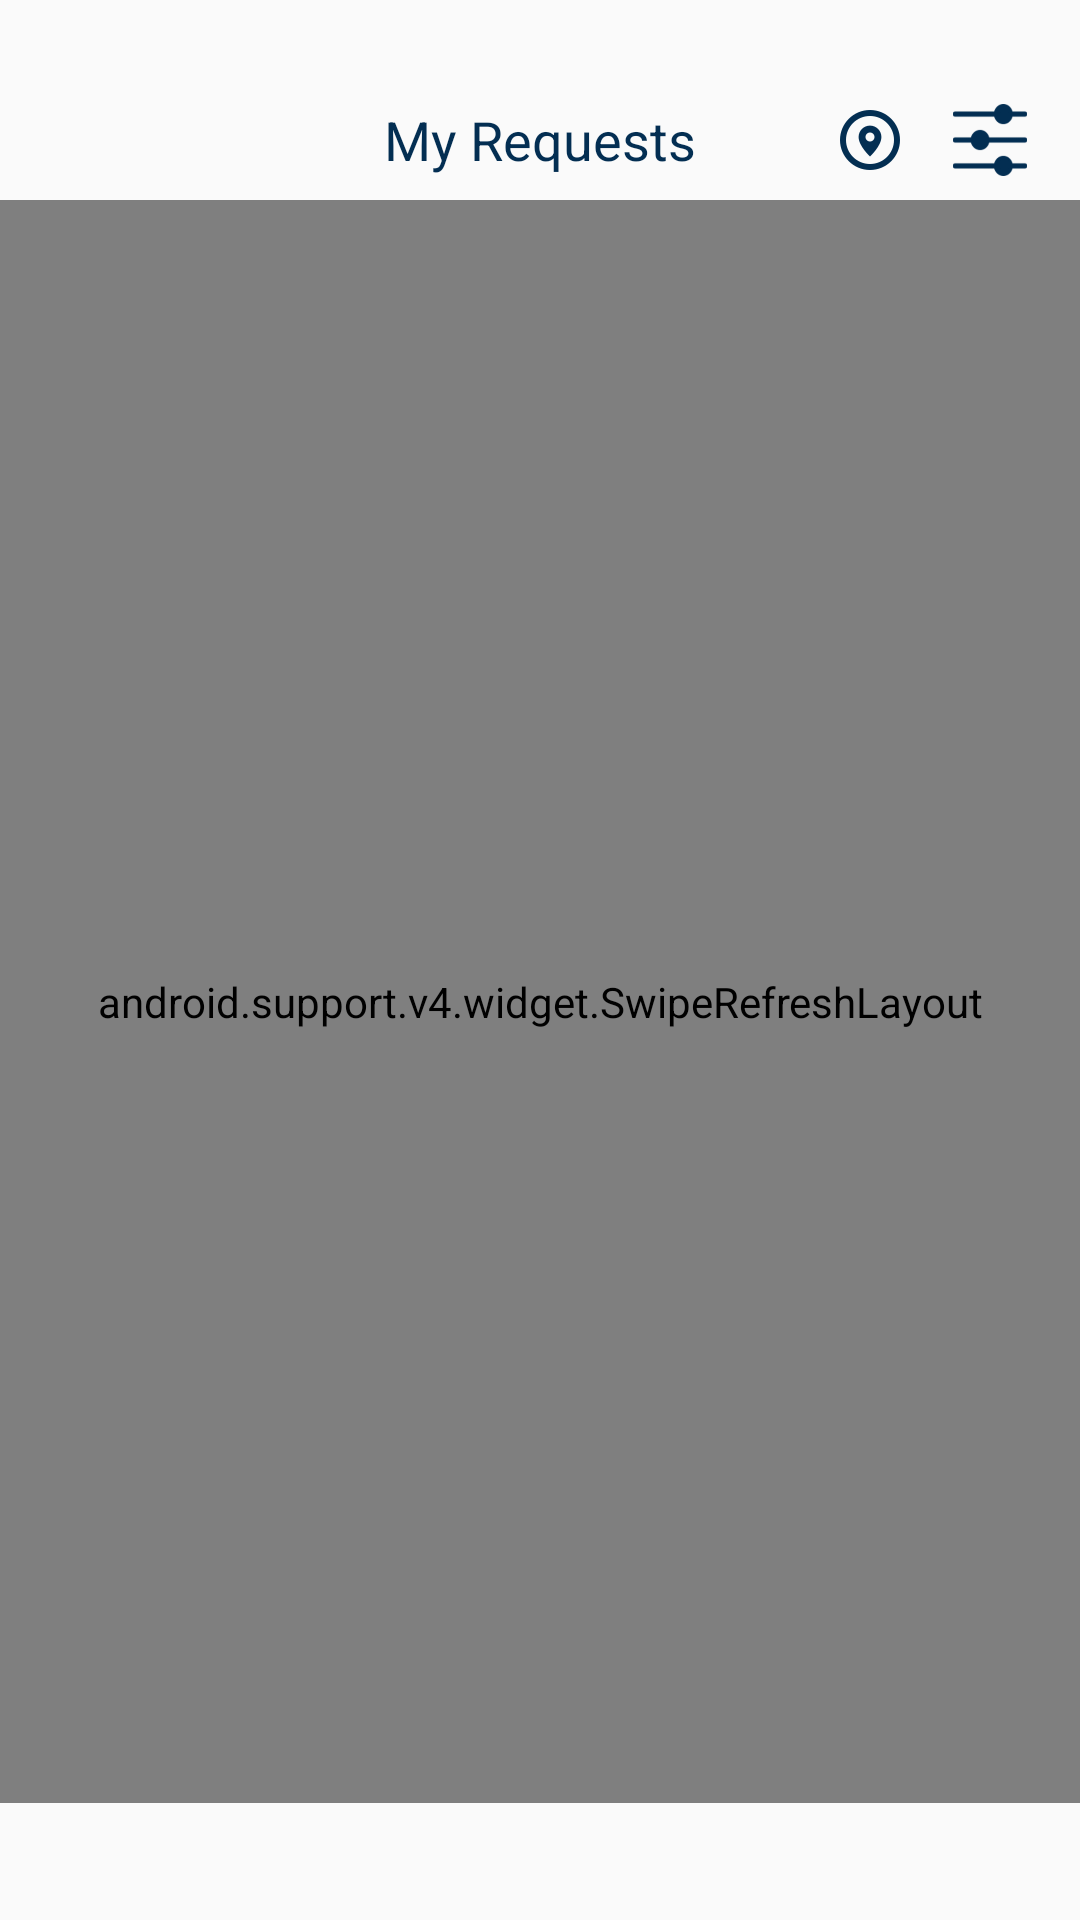

Icon click points for this 1080x1920 phone screenshot, format [x,y]:
filter: [990,140]
map marker circle: [870,140]
